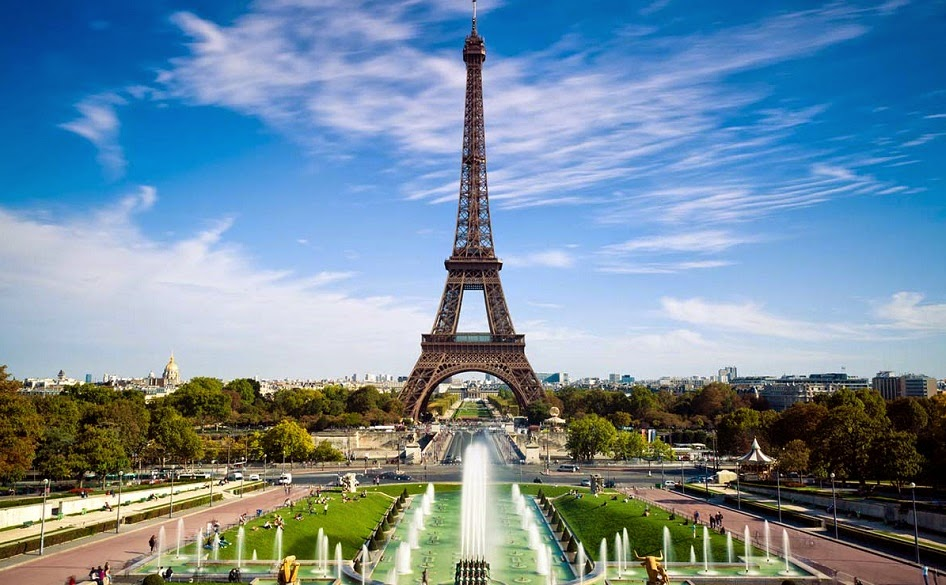tower: (379, 1, 563, 450)
